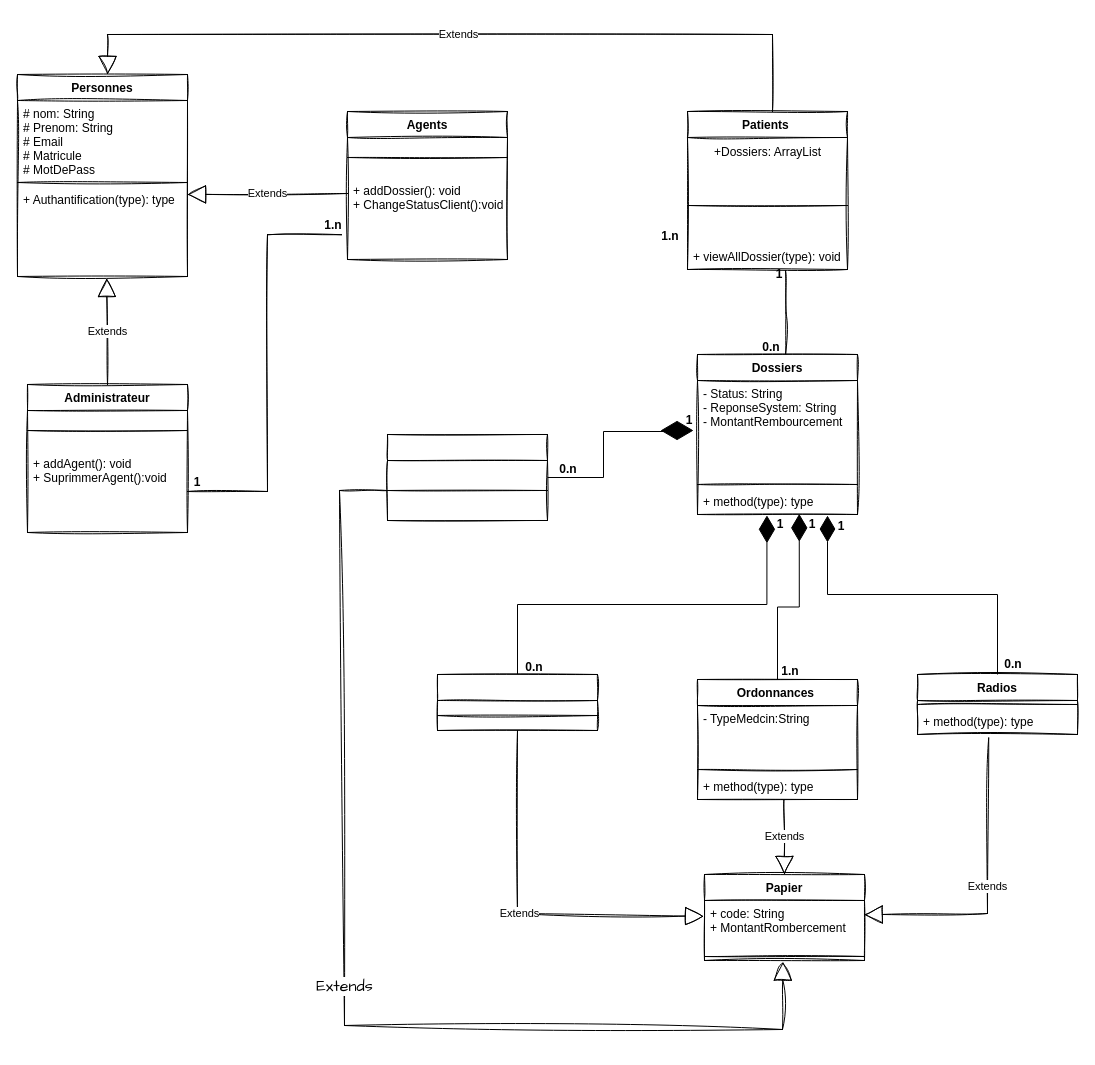
Image size: 1095x1065. Some labels were removed from this diagram. Here are the shapes that lost their labels. From the top down, the centre of each, then its label:
the point at 467,477: Medicaments
the point at 517,702: Scaner
